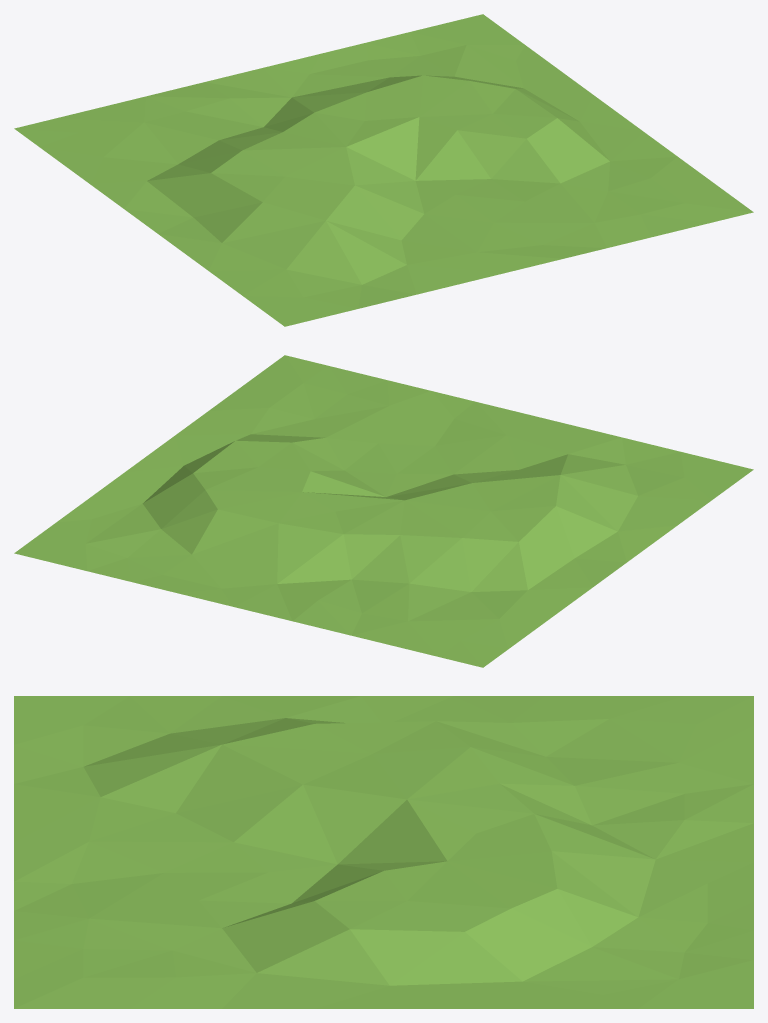
Rendered from MT_Terrain_S_c_06_LOD.fbx.
3 views of the same model, one above another, from view 1: azimuth 30°, elevation 25°; view 2: azimuth 150°, elevation 25°; view 3: azimuth 270°, elevation 25° (orthographic). The views are drawn at different scales.
Visible parts, largest first — view 1: MT_Terrain_S_c_06_LOD0; view 2: MT_Terrain_S_c_06_LOD0; view 3: MT_Terrain_S_c_06_LOD0.
Boxes of the visible parts, left/top/right/bottom form: MT_Terrain_S_c_06_LOD0: left=14, top=14, right=753, bottom=326; MT_Terrain_S_c_06_LOD0: left=14, top=355, right=753, bottom=667; MT_Terrain_S_c_06_LOD0: left=14, top=696, right=753, bottom=1008.
Size of what is drawn, in the model's own units: 2500 by 133 by 2500.
